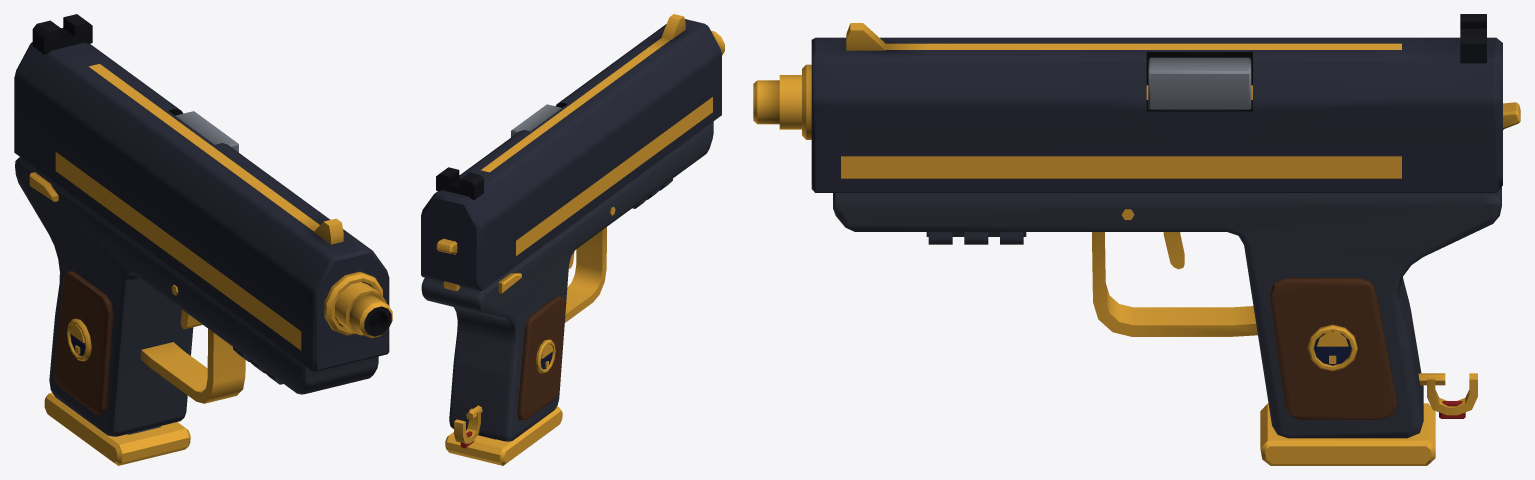
File: golden_parachute.glb
3 views of the same model, side by side, from view 1: azimuth 30°, elevation 25°; view 2: azimuth 150°, elevation 25°; view 3: azimuth 270°, elevation 25° (orthographic). The views are drawn at different scales.
Parts seen in each view (by area): view 1: slide, frame, mag; view 2: slide, frame, mag; view 3: slide, frame, mag.
Boxes of the visible parts, left/top/right/bottom form: slide: left=14, top=14, right=389, bottom=371; frame: left=15, top=111, right=392, bottom=436; mag: left=44, top=392, right=190, bottom=465; slide: left=421, top=14, right=721, bottom=291; frame: left=421, top=30, right=724, bottom=448; mag: left=445, top=406, right=562, bottom=465; slide: left=802, top=14, right=1502, bottom=192; frame: left=753, top=57, right=1520, bottom=438; mag: left=1260, top=403, right=1435, bottom=465.
Size of the model in its own units: 0.237 by 0.876 by 1.44.
Materials: 1 (1 with a texture image).
